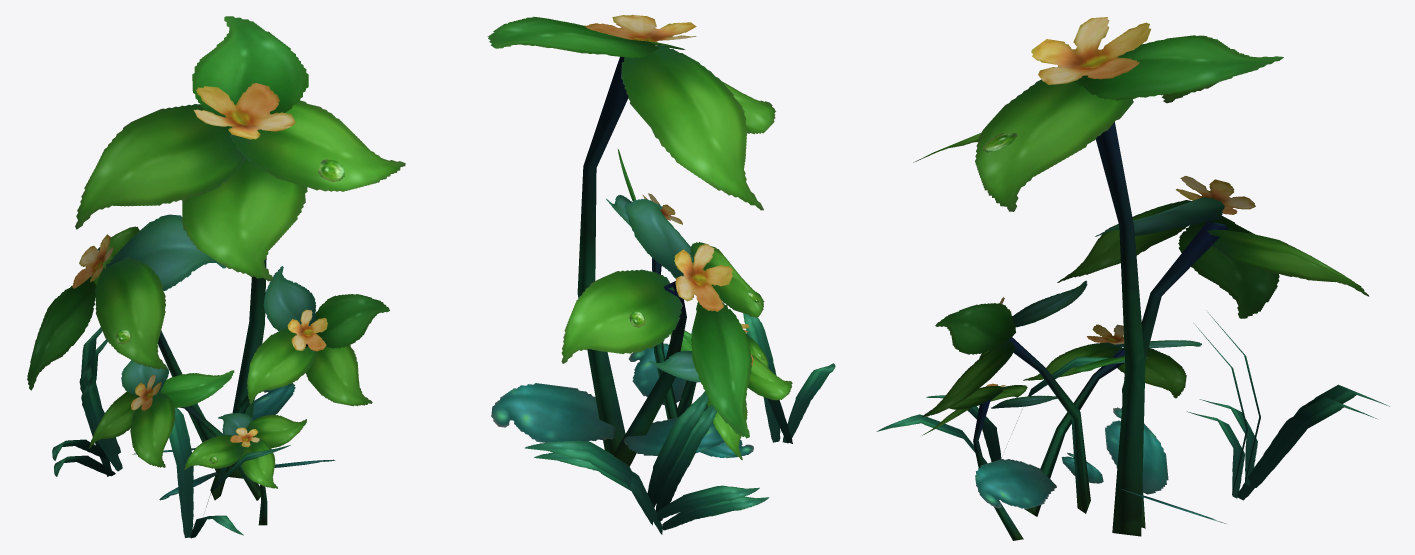
The model's file is taoyuanzhen_huacao_16.FBX.
3 views of the same model, side by side, from view 1: azimuth 30°, elevation 25°; view 2: azimuth 150°, elevation 25°; view 3: azimuth 270°, elevation 25° (orthographic). The views are drawn at different scales.
Parts seen in each view (by area): view 1: taoyuanzhen_huacao_16; view 2: taoyuanzhen_huacao_16; view 3: taoyuanzhen_huacao_16.
Boxes of the visible parts, left/top/right/bottom form: taoyuanzhen_huacao_16: left=27, top=16, right=405, bottom=538; taoyuanzhen_huacao_16: left=487, top=14, right=835, bottom=534; taoyuanzhen_huacao_16: left=876, top=17, right=1389, bottom=540.
Bounding box in the file's own units: 125 × 161 × 145.
